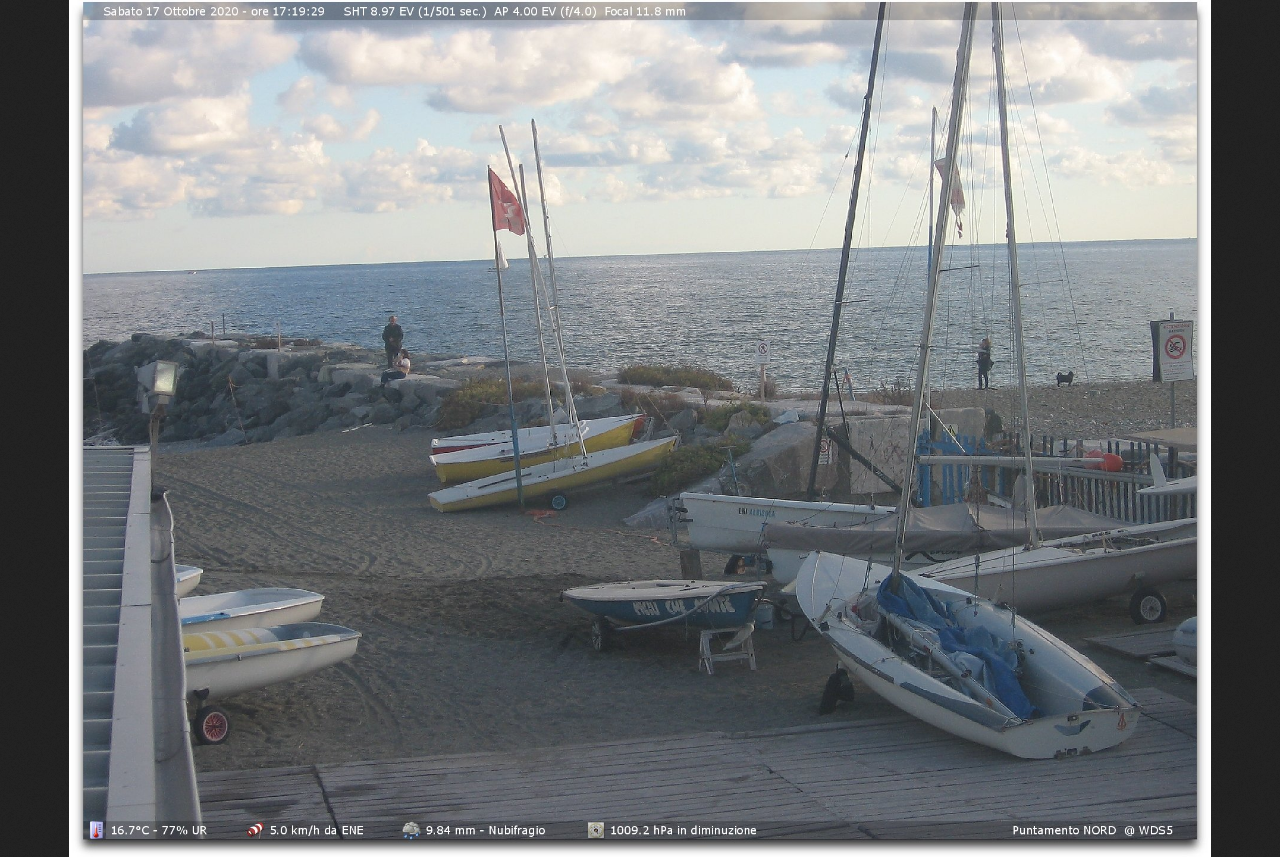maybe: (479, 160, 537, 245)
